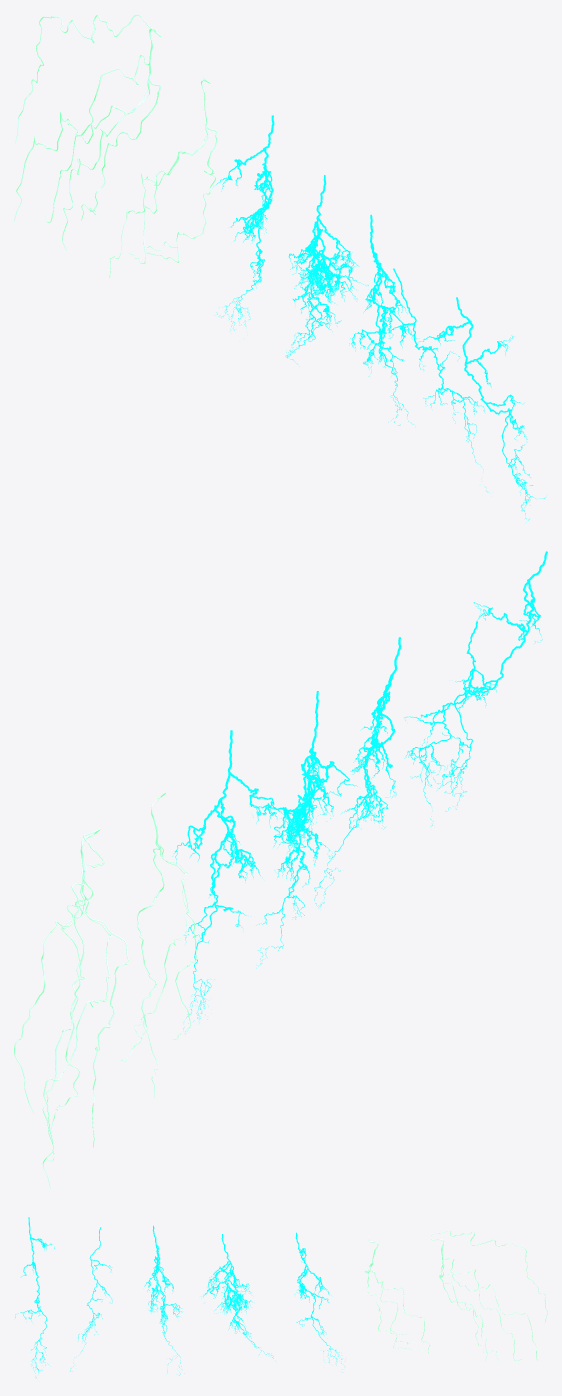
Rendered from lightning_beam.glb.
3 views of the same model, one above another, from view 1: azimuth 30°, elevation 25°; view 2: azimuth 150°, elevation 25°; view 3: azimuth 270°, elevation 25° (orthographic). The views are drawn at different scales.
Visible parts, largest first — view 1: Lighting.001_1, Lighting_4, Lighting.002_2, Lighting.003_0, Lighting.005_5, Lighting.004_3, Lighting.006_6; view 2: Lighting.001_1, Lighting_4, Lighting.003_0, Lighting.002_2, Lighting.005_5, Lighting.004_3, Lighting.006_6; view 3: Lighting.001_1, Lighting_4, Lighting.002_2, Lighting.003_0, Lighting.005_5, Lighting.004_3, Lighting.006_6.
Boxes of the visible parts, x1,y1,x2,y2 form: Lighting.001_1: [285, 175, 368, 366]; Lighting_4: [14, 14, 160, 250]; Lighting.002_2: [349, 214, 419, 425]; Lighting.003_0: [215, 115, 274, 330]; Lighting.005_5: [415, 297, 545, 522]; Lighting.004_3: [109, 78, 217, 278]; Lighting.006_6: [387, 268, 488, 492]; Lighting.001_1: [253, 691, 357, 968]; Lighting_4: [14, 828, 129, 1188]; Lighting.003_0: [172, 730, 286, 1031]; Lighting.002_2: [314, 637, 401, 907]; Lighting.005_5: [427, 551, 547, 811]; Lighting.004_3: [120, 793, 196, 1097]; Lighting.006_6: [404, 621, 480, 826]; Lighting.001_1: [201, 1234, 273, 1358]; Lighting_4: [431, 1231, 547, 1361]; Lighting.002_2: [144, 1225, 184, 1375]; Lighting.003_0: [294, 1232, 342, 1369]; Lighting.005_5: [15, 1217, 54, 1377]; Lighting.004_3: [364, 1236, 430, 1353]; Lighting.006_6: [70, 1227, 112, 1371].
Size of the model in its own units: 6.67 by 13.33 by 44.93.
